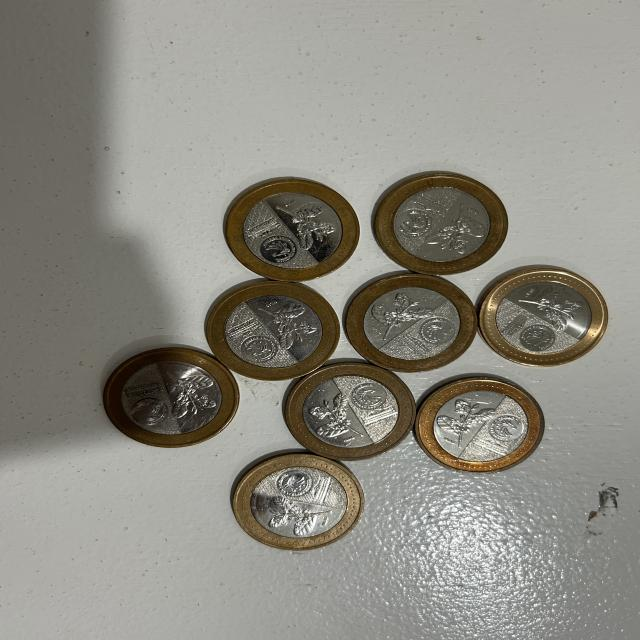20_New_Back: (272, 198, 338, 250), (159, 368, 218, 418), (428, 204, 487, 252), (258, 301, 314, 350), (311, 392, 364, 443), (372, 290, 429, 336), (441, 399, 490, 447), (522, 292, 582, 329), (268, 498, 331, 533)
